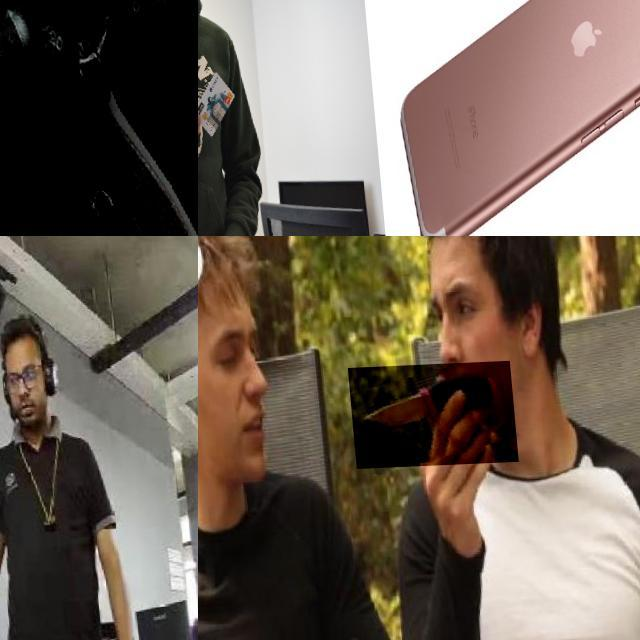-: (344, 365, 513, 472), (0, 464, 30, 556)
gun-knife-thesis - v11 Yolov5 augmented: (0, 0, 198, 236)
